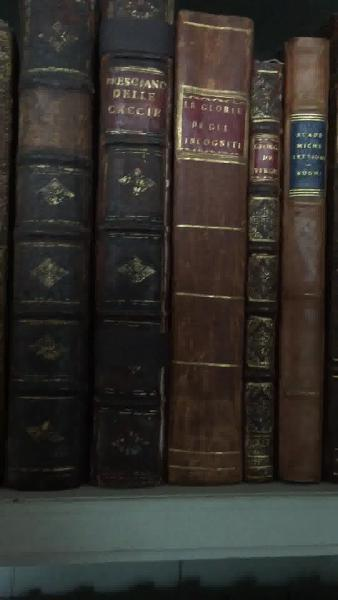Aa6-31: (21, 1, 94, 497)
Aa6-32: (101, 1, 169, 495)
Aa6-33: (178, 8, 243, 485)
Aa6-34: (240, 45, 278, 481)
Aa6-35: (280, 33, 333, 485)
